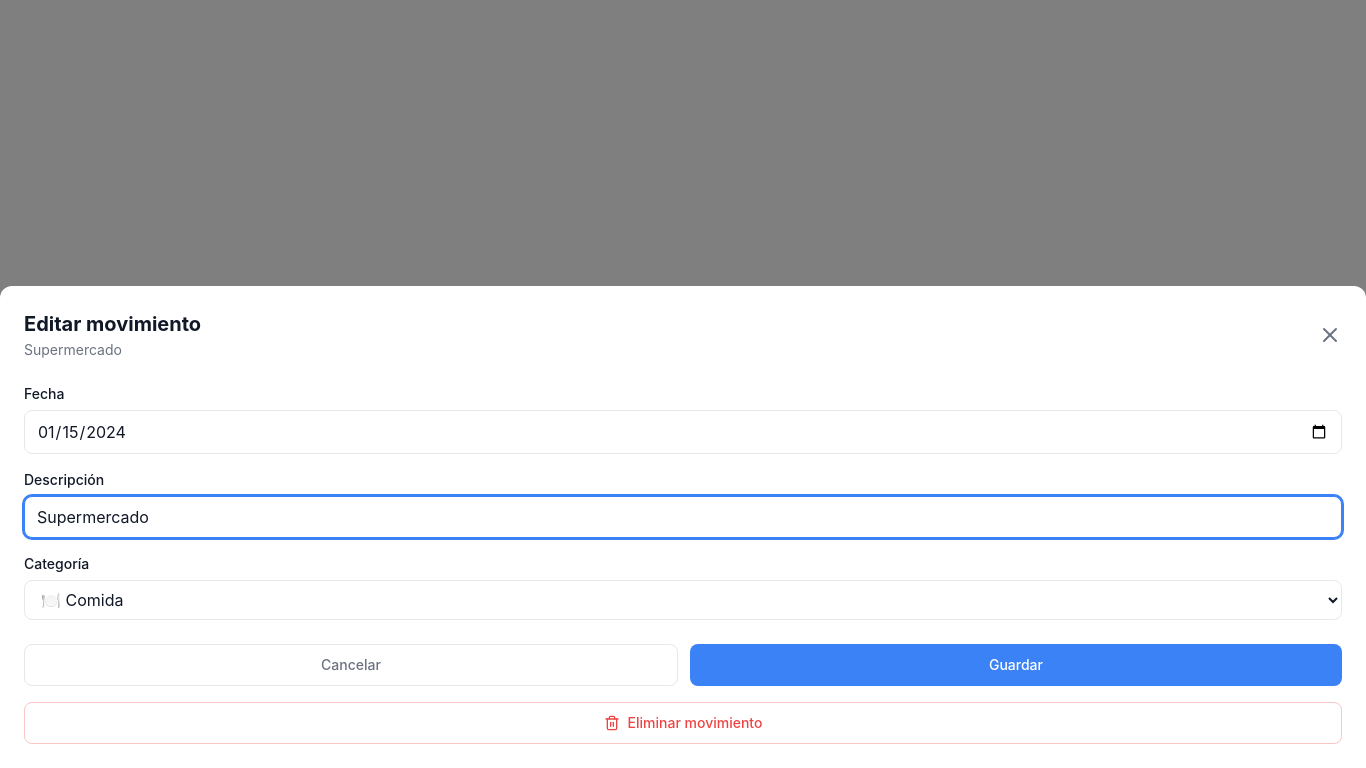
Test: EditMovementModal › submit › shows error when submit fails
Step 1. Click the button "Guardar" → (1016, 665), box [690,644,1342,686]
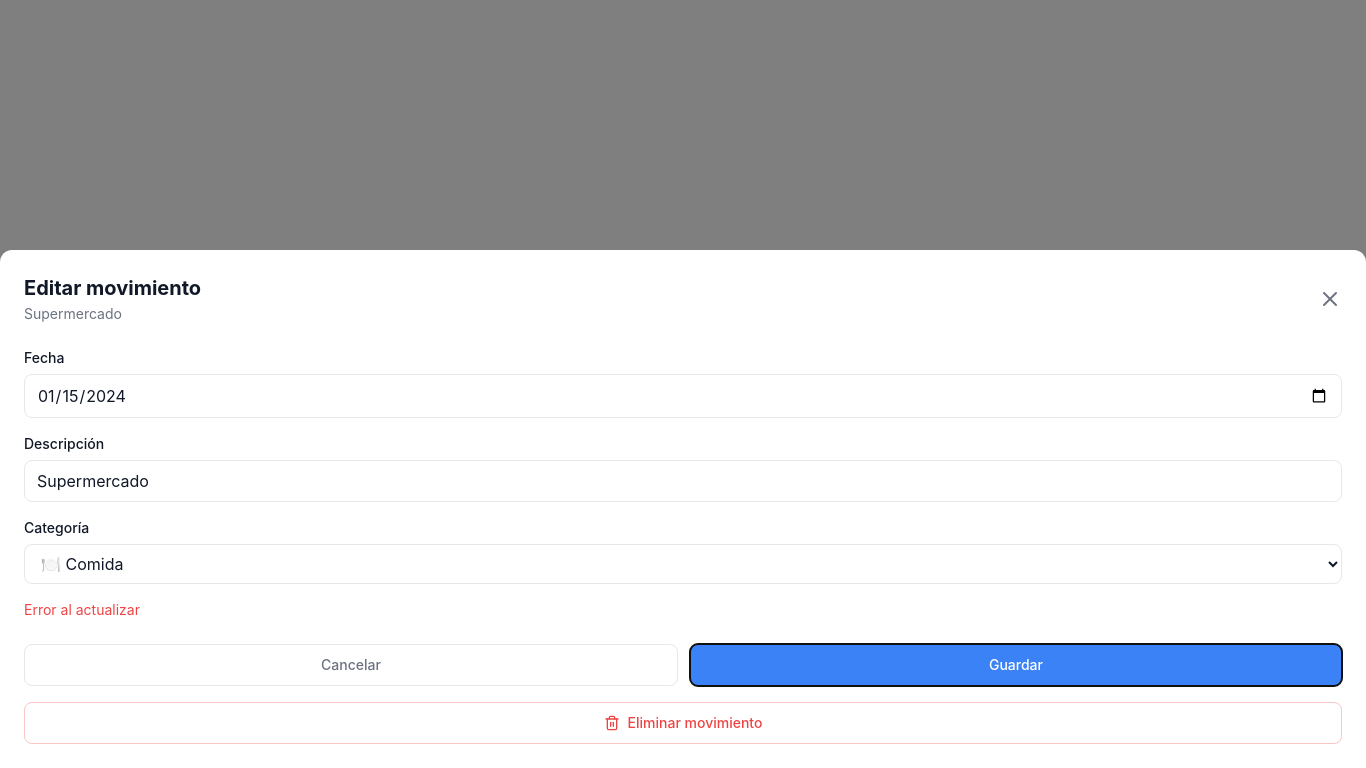
expect the text "Error al actualizar" is shown: met, box [24,601,140,618]
